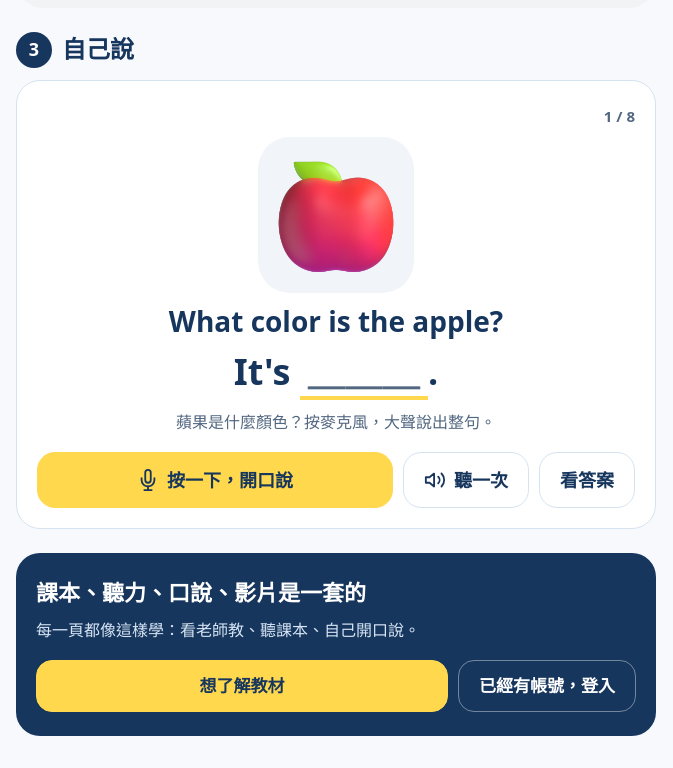
Test: speaking practice hides the answer until the learner has tried, then moves on
(page scrolled)
Expected: the text "What color is the apple?" is shown, [169,303,503,339]
Expected: the text "red" is not shown
Click the button "看答案" at (587, 480), box [539,452,635,508]
(page scrolled)
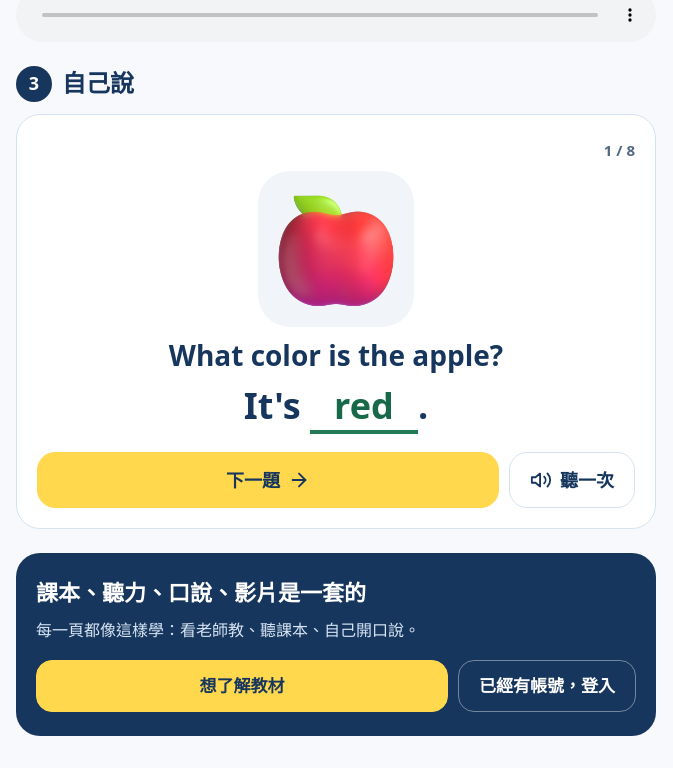
Now the text "red" has class "is-shown", box [310,383,418,434]
Click the button "下一題" at (268, 480), box [37,452,499,508]
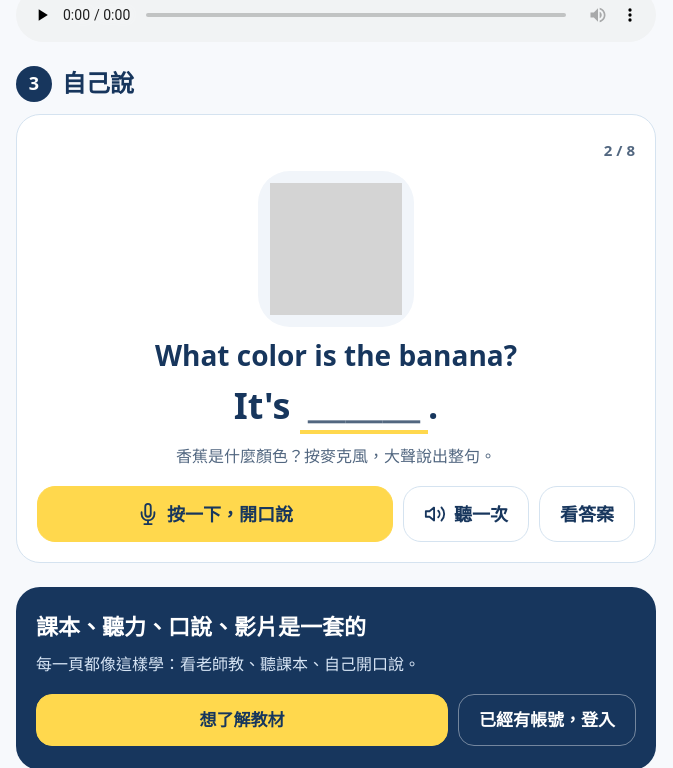
Now the text "What color is the banana?" is shown, box [155,337,517,373]
